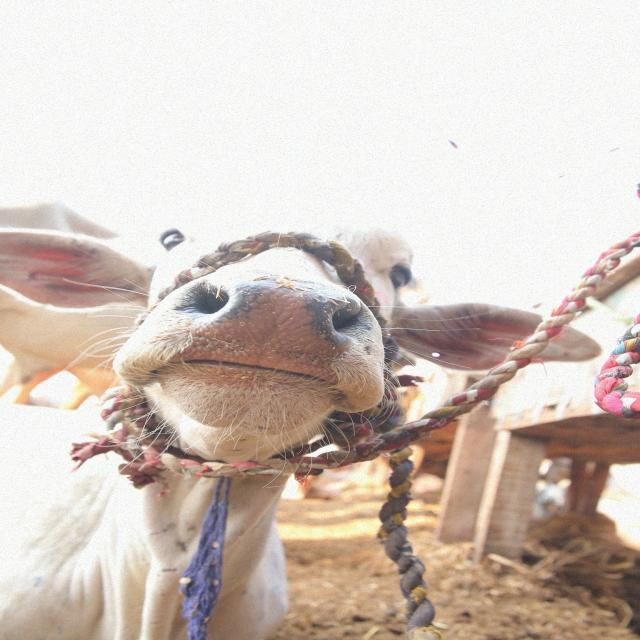muzzles: (164, 272, 358, 386)
